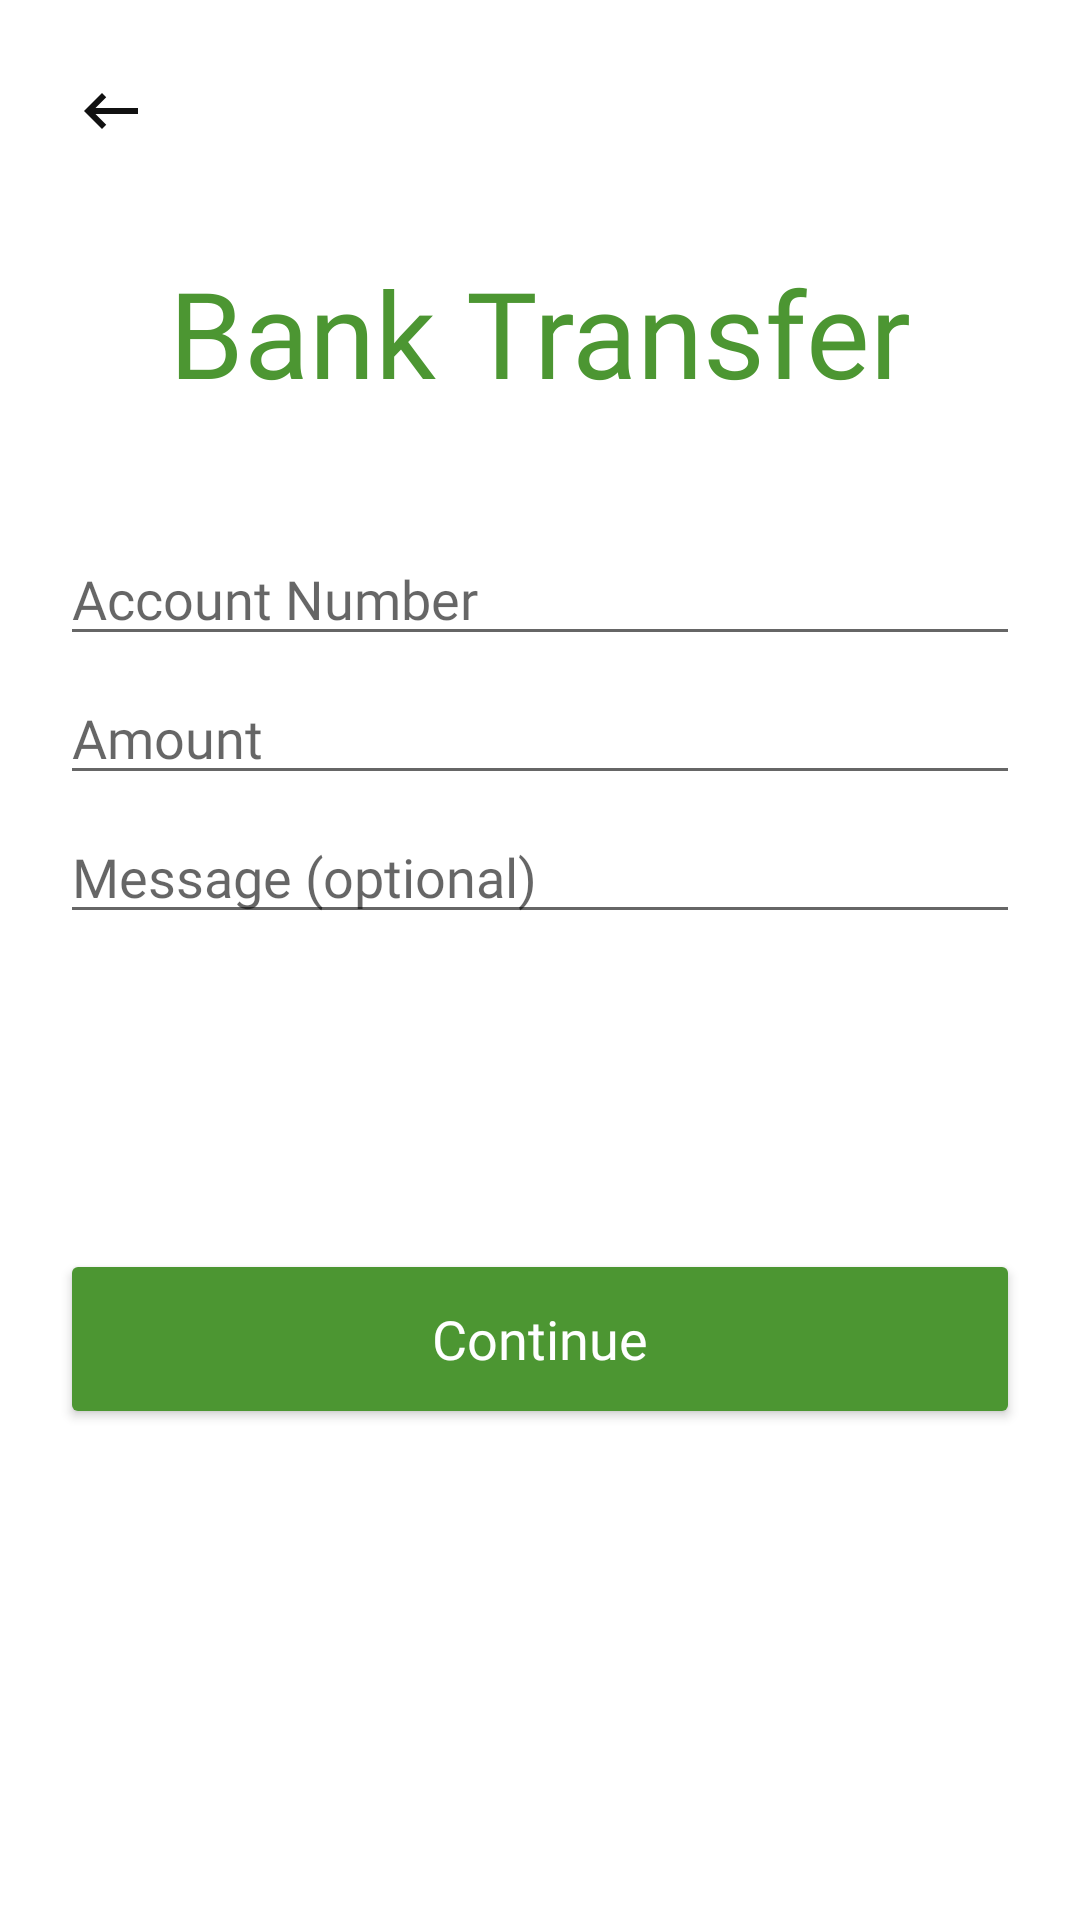

Point at icon controls on the screen. Image size 1080px x 1920px, points as [x,y].
back: [111,111]
